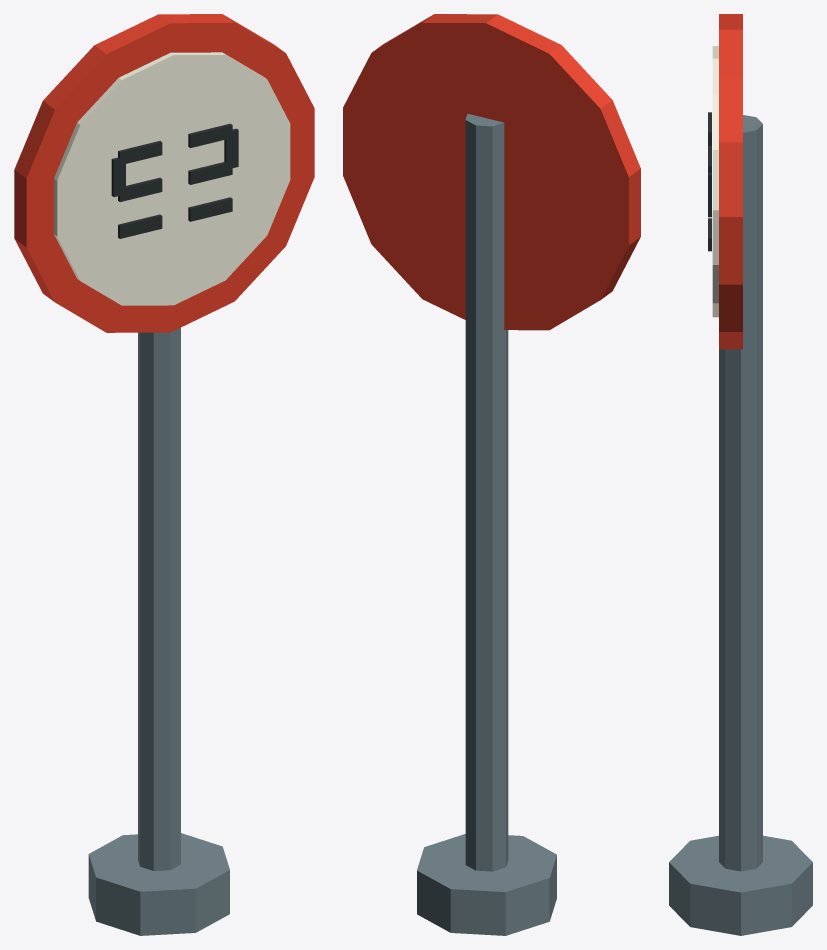
Rendered from FTF_Street_SpeedLimitSign_2_4m.glb.
The picture shows the model from 3 angles, left to right: view 1: azimuth 30°, elevation 25°; view 2: azimuth 150°, elevation 25°; view 3: azimuth 270°, elevation 25°; orthographic projection.
Parts seen in each view (by area): view 1: FTF_Street_SpeedLimitSign_2_4m_Mesh; view 2: FTF_Street_SpeedLimitSign_2_4m_Mesh; view 3: FTF_Street_SpeedLimitSign_2_4m_Mesh.
Boxes of the visible parts, left/top/right/bottom form: FTF_Street_SpeedLimitSign_2_4m_Mesh: left=14, top=14, right=314, bottom=935; FTF_Street_SpeedLimitSign_2_4m_Mesh: left=343, top=14, right=640, bottom=935; FTF_Street_SpeedLimitSign_2_4m_Mesh: left=669, top=14, right=812, bottom=935.
Size of the model in its own units: 0.8189 by 2.42 by 0.36.
